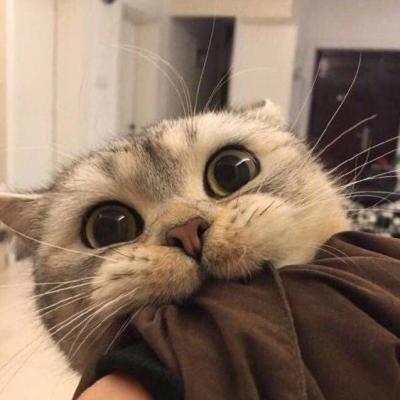cat: (12, 104, 361, 372)
